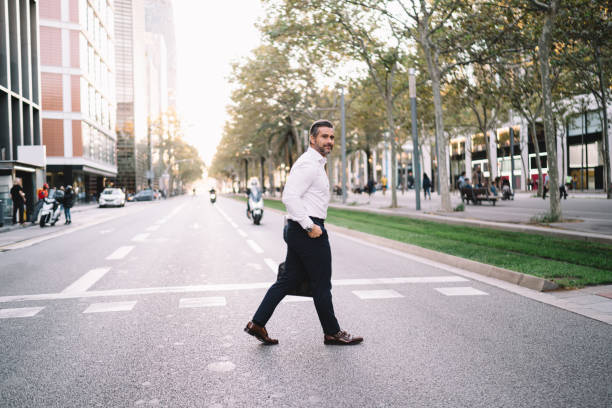yaya: (247, 107, 391, 351), (235, 168, 277, 253)
